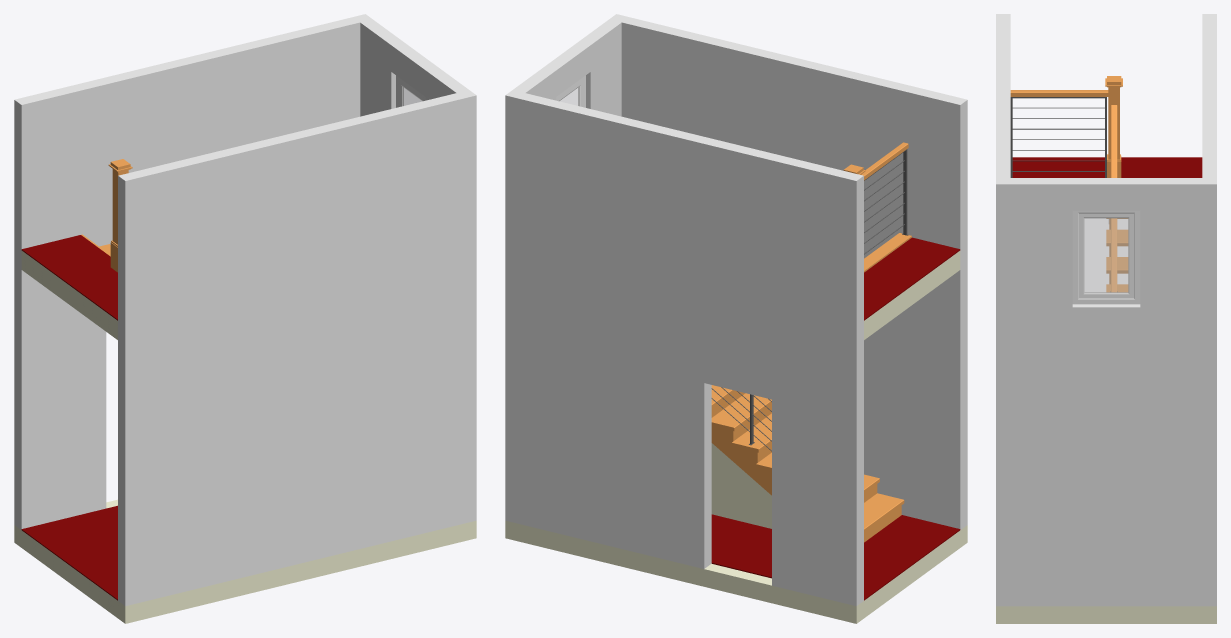
File: леснтица фломандия.obj
The picture shows the model from 3 angles, left to right: view 1: azimuth 30°, elevation 25°; view 2: azimuth 150°, elevation 25°; view 3: azimuth 270°, elevation 25°; orthographic projection.
Bounding box in the file's own units: 4.15 × 5 × 2.28.
